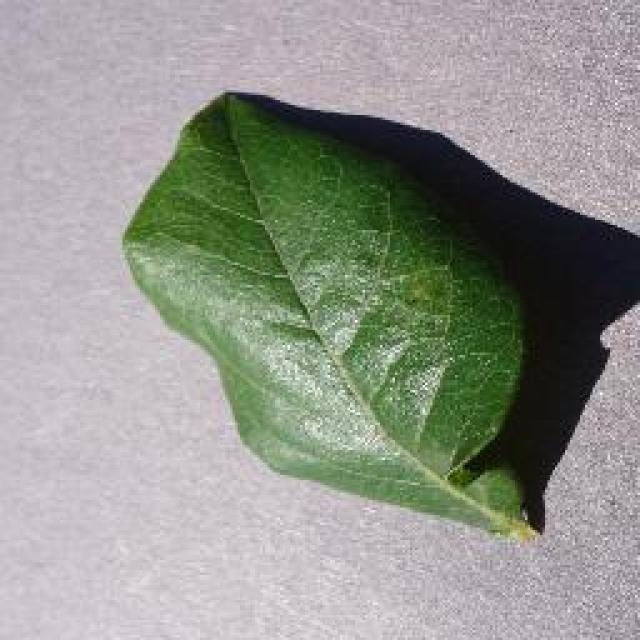Blu_healthy: (141, 130, 475, 494)
